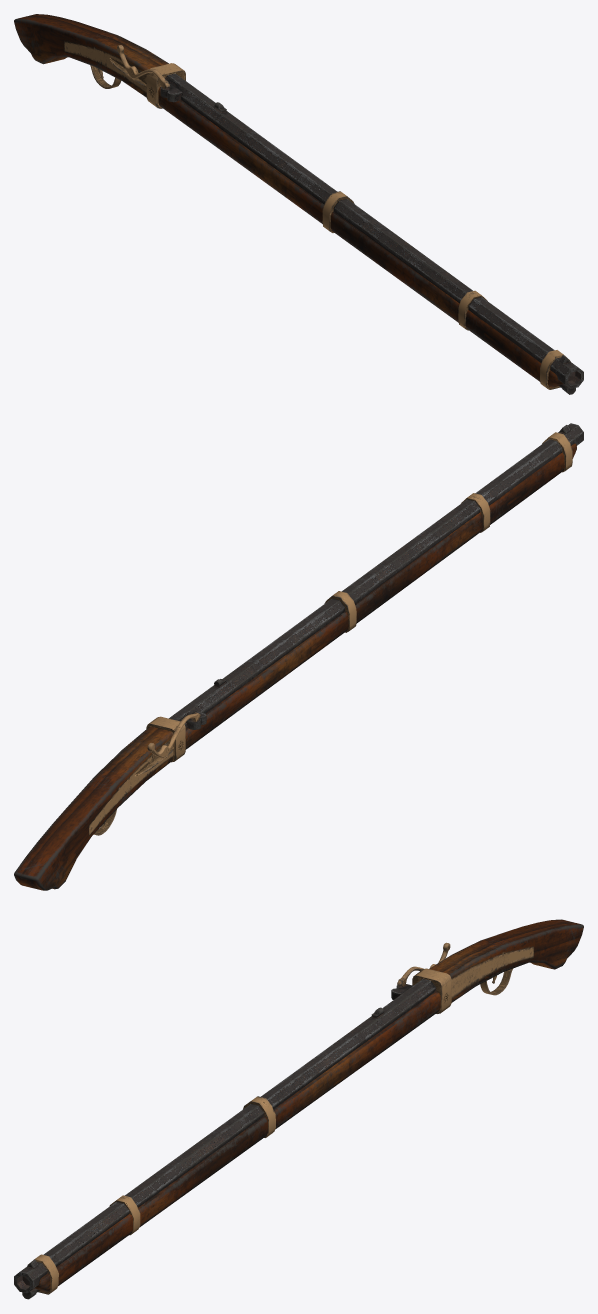
File: SM_Matchlock.fbx
3 renders of one model, top to bottom at view 1: azimuth 30°, elevation 25°; view 2: azimuth 150°, elevation 25°; view 3: azimuth 330°, elevation 25°, orthographic.
Parts seen in each view (by area): view 1: SM_Matchlock; view 2: SM_Matchlock; view 3: SM_Matchlock.
Part boxes in pixels (x1,y1,x2,y2): SM_Matchlock: (14,14,583,394); SM_Matchlock: (14,423,583,890); SM_Matchlock: (14,919,583,1299).
Size of the model in its own units: 5.02 by 139 by 11.53.
Materials: 1 (1 with a texture image).
